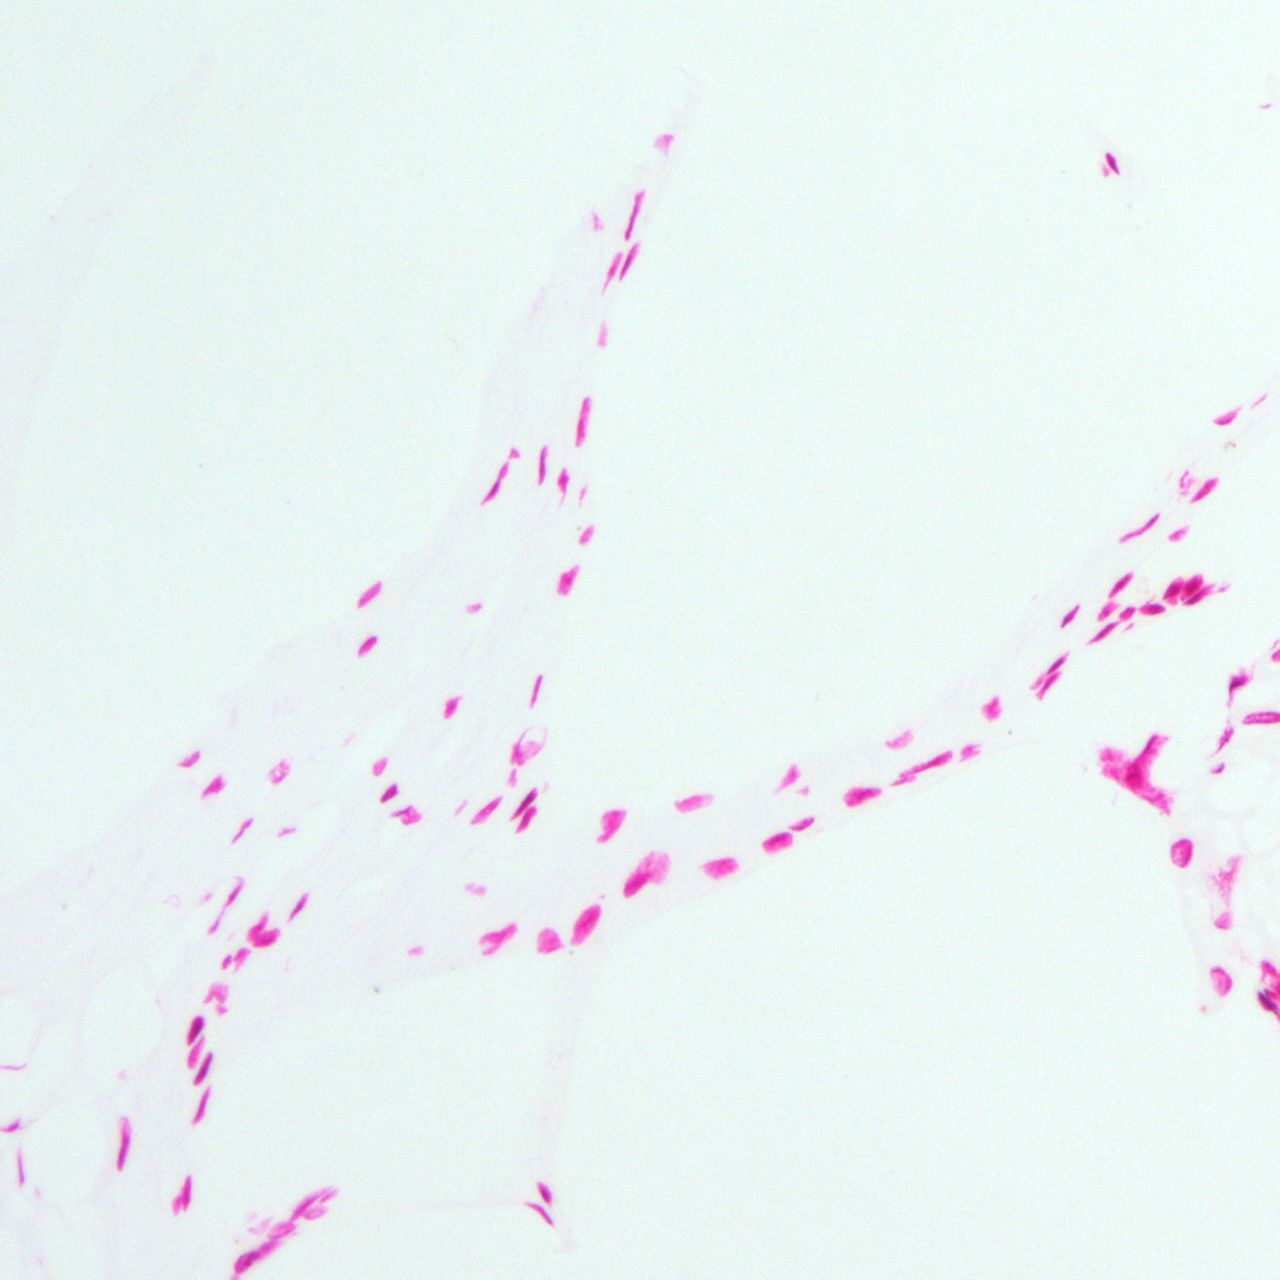dust: (374, 987, 378, 992)
nucleus-FG: (510, 786, 539, 821), (760, 828, 794, 854), (181, 1013, 208, 1044), (193, 1050, 216, 1086), (1106, 571, 1132, 598), (1058, 603, 1083, 629), (1255, 991, 1278, 1014), (379, 783, 399, 804), (529, 674, 542, 706), (484, 479, 502, 502), (1104, 151, 1119, 175), (1228, 673, 1248, 689)
